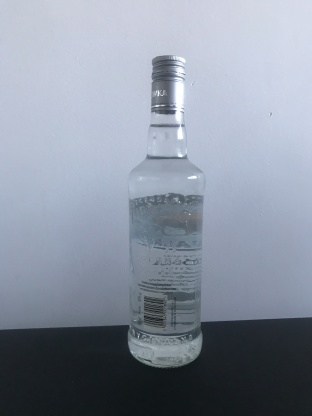nakretka: (150, 53, 186, 115)
